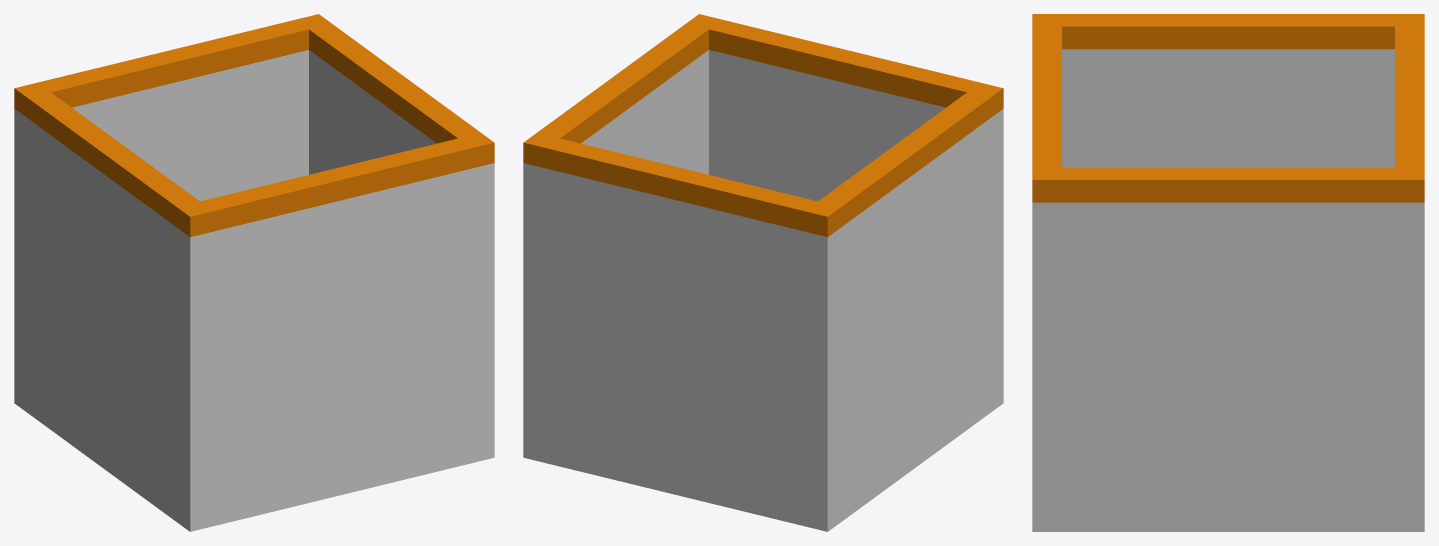
Rendered from ballSpawn.fbx.
3 views of the same model, side by side, from view 1: azimuth 30°, elevation 25°; view 2: azimuth 150°, elevation 25°; view 3: azimuth 270°, elevation 25° (orthographic). The views are drawn at different scales.
Visible parts, largest first — view 1: Cube; view 2: Cube; view 3: Cube.
Part boxes in pixels (left/top/right/bottom): Cube: left=14, top=14, right=494, bottom=531; Cube: left=523, top=14, right=1003, bottom=531; Cube: left=1032, top=14, right=1424, bottom=531.
Size of the model in its own units: 200 by 198 by 200.
